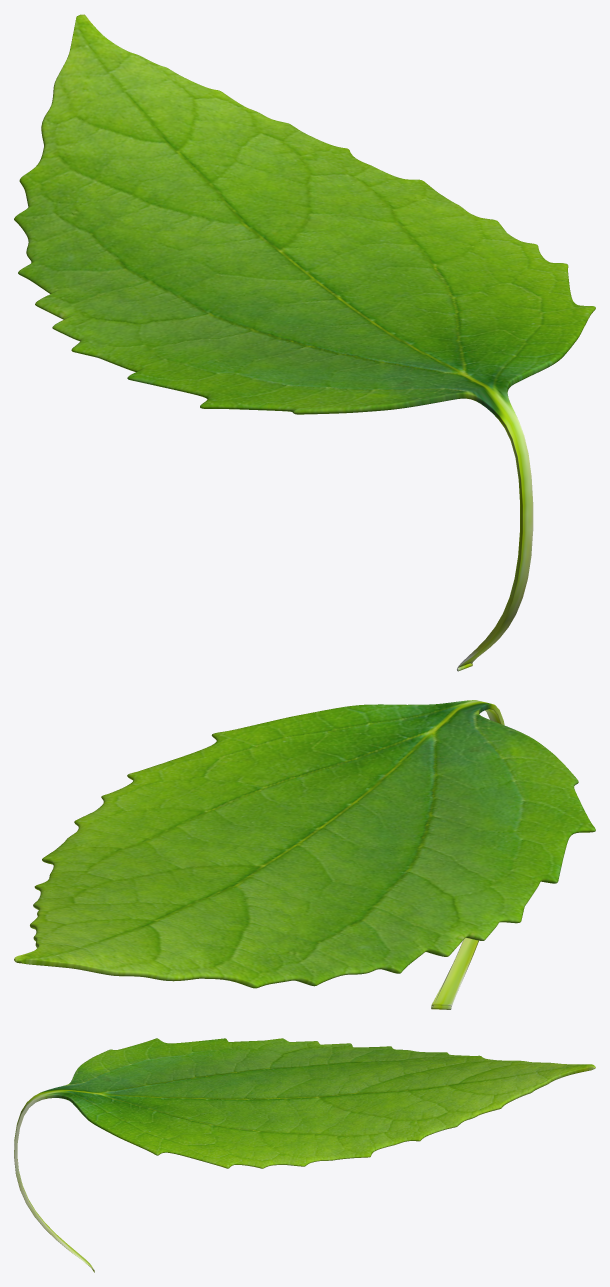
Rendered from BigLeaf2.fbx.
The picture shows the model from 3 angles, top to bottom: view 1: azimuth 30°, elevation 25°; view 2: azimuth 150°, elevation 25°; view 3: azimuth 270°, elevation 25°; orthographic projection. The views are drawn at different scales.
Visible parts, largest first — view 1: Leaf; view 2: Leaf; view 3: Leaf.
Part boxes in pixels (x1,y1,x2,y2): Leaf: (14, 14, 595, 671); Leaf: (14, 700, 595, 1009); Leaf: (14, 1038, 595, 1272).
Size of the model in its own units: 140 by 103 by 255.
Materials: 1 (1 with a texture image).
